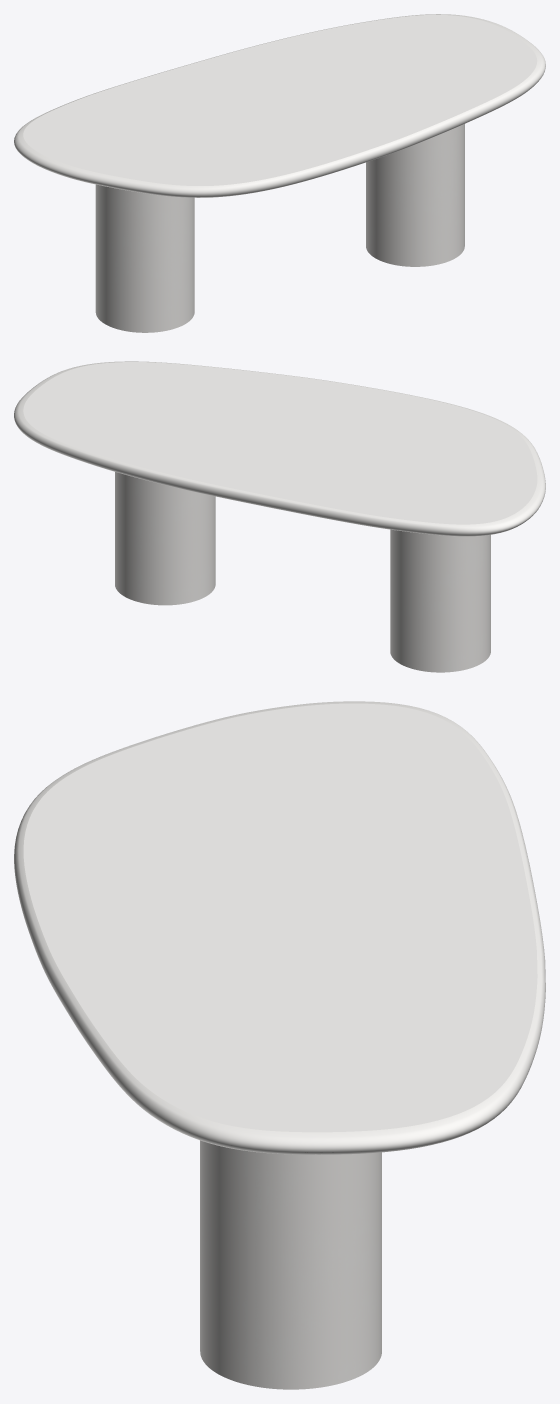
Rendered from purewhite_leaf2_round_stream.glb.
3 views of the same model, one above another, from view 1: azimuth 30°, elevation 25°; view 2: azimuth 150°, elevation 25°; view 3: azimuth 270°, elevation 25° (orthographic). The views are drawn at different scales.
Parts seen in each view (by area): view 1: round_leaf2, stream; view 2: round_leaf2, stream; view 3: round_leaf2, stream.
Part boxes in pixels (x1,y1,x2,y2): round_leaf2: [14, 14, 545, 197]; stream: [95, 124, 464, 332]; round_leaf2: [14, 361, 545, 536]; stream: [115, 472, 490, 672]; round_leaf2: [14, 701, 545, 1154]; stream: [200, 1140, 381, 1389].
Bounding box in the file's own units: 7.5 × 2.52 × 3.8.
1 material, 1 textured.
